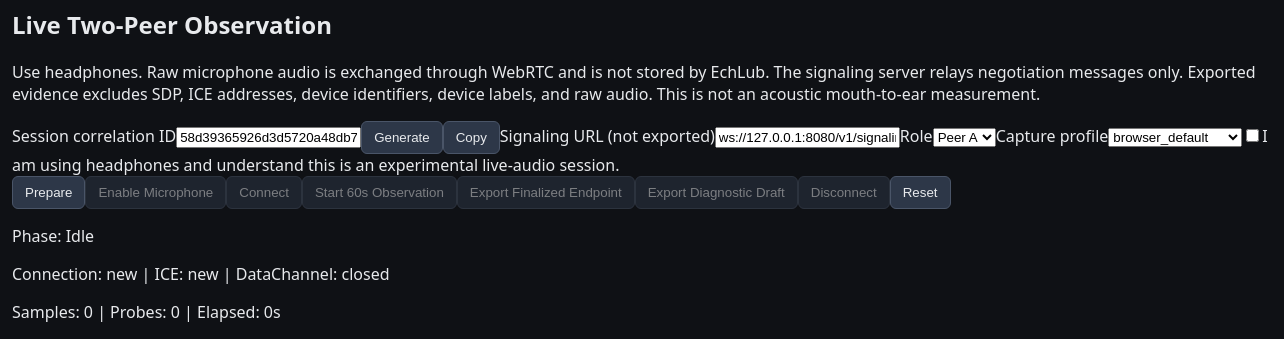
Test: LivePerformancePanel configuration freeze › freezes role, signaling URL, and capture profile after Prepare
The image size is (1284, 339).
Replace the text in the field labelled "Signaling URL (not exported)" with "ws://example.test/ws": (807,137) [715,127,900,148]
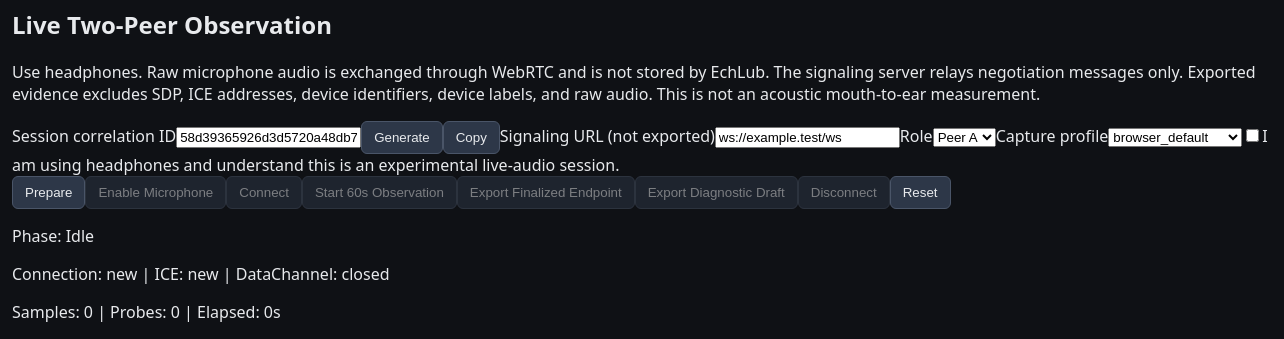
Select "Peer B" in the dropdown labelled "Role": (964,137) [933,128,996,147]
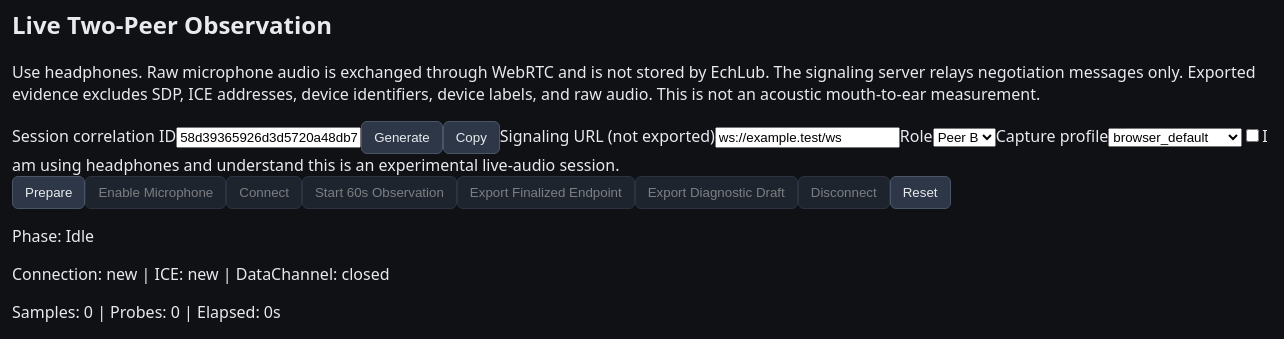
Select "music_low_latency" in the dropdown labelled "Capture profile": (1175,137) [1108,128,1242,147]
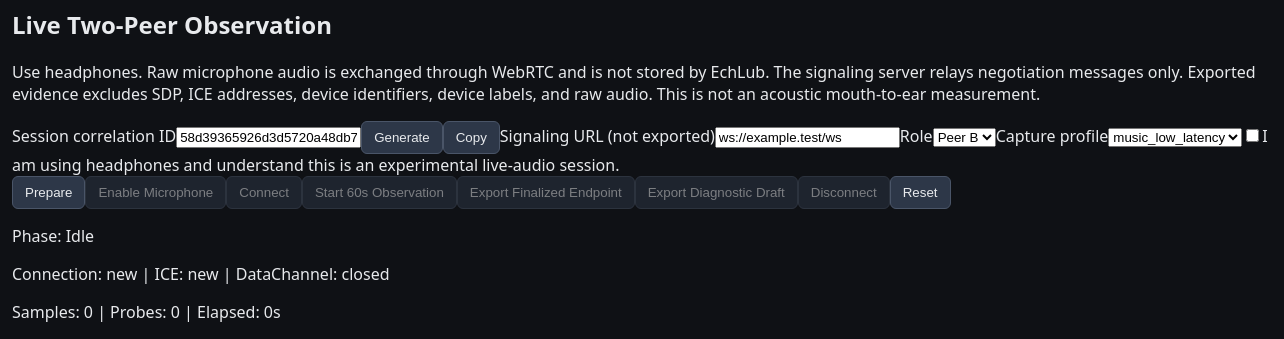
Click the button "Prepare": (49,192) [12,176,85,209]
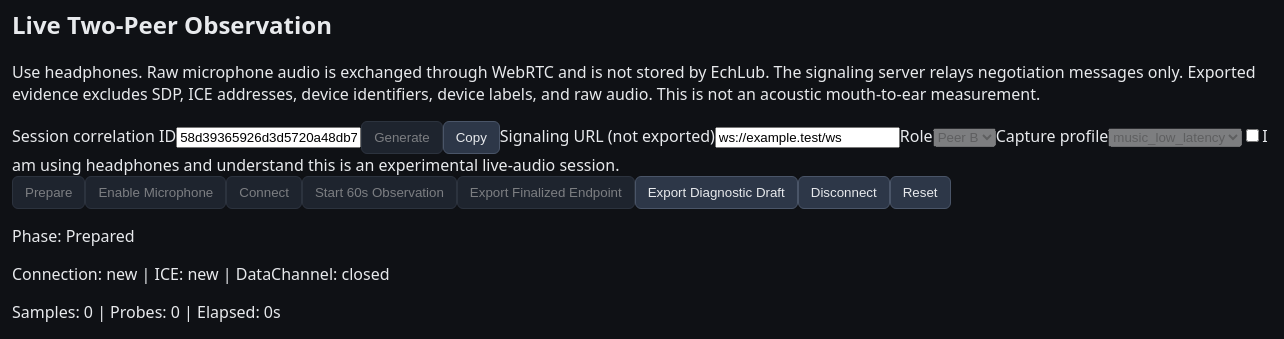
Result: the dropdown labelled "Role" is disabled at [933,128,996,147]
Result: the dropdown labelled "Capture profile" is disabled at [1108,128,1242,147]
